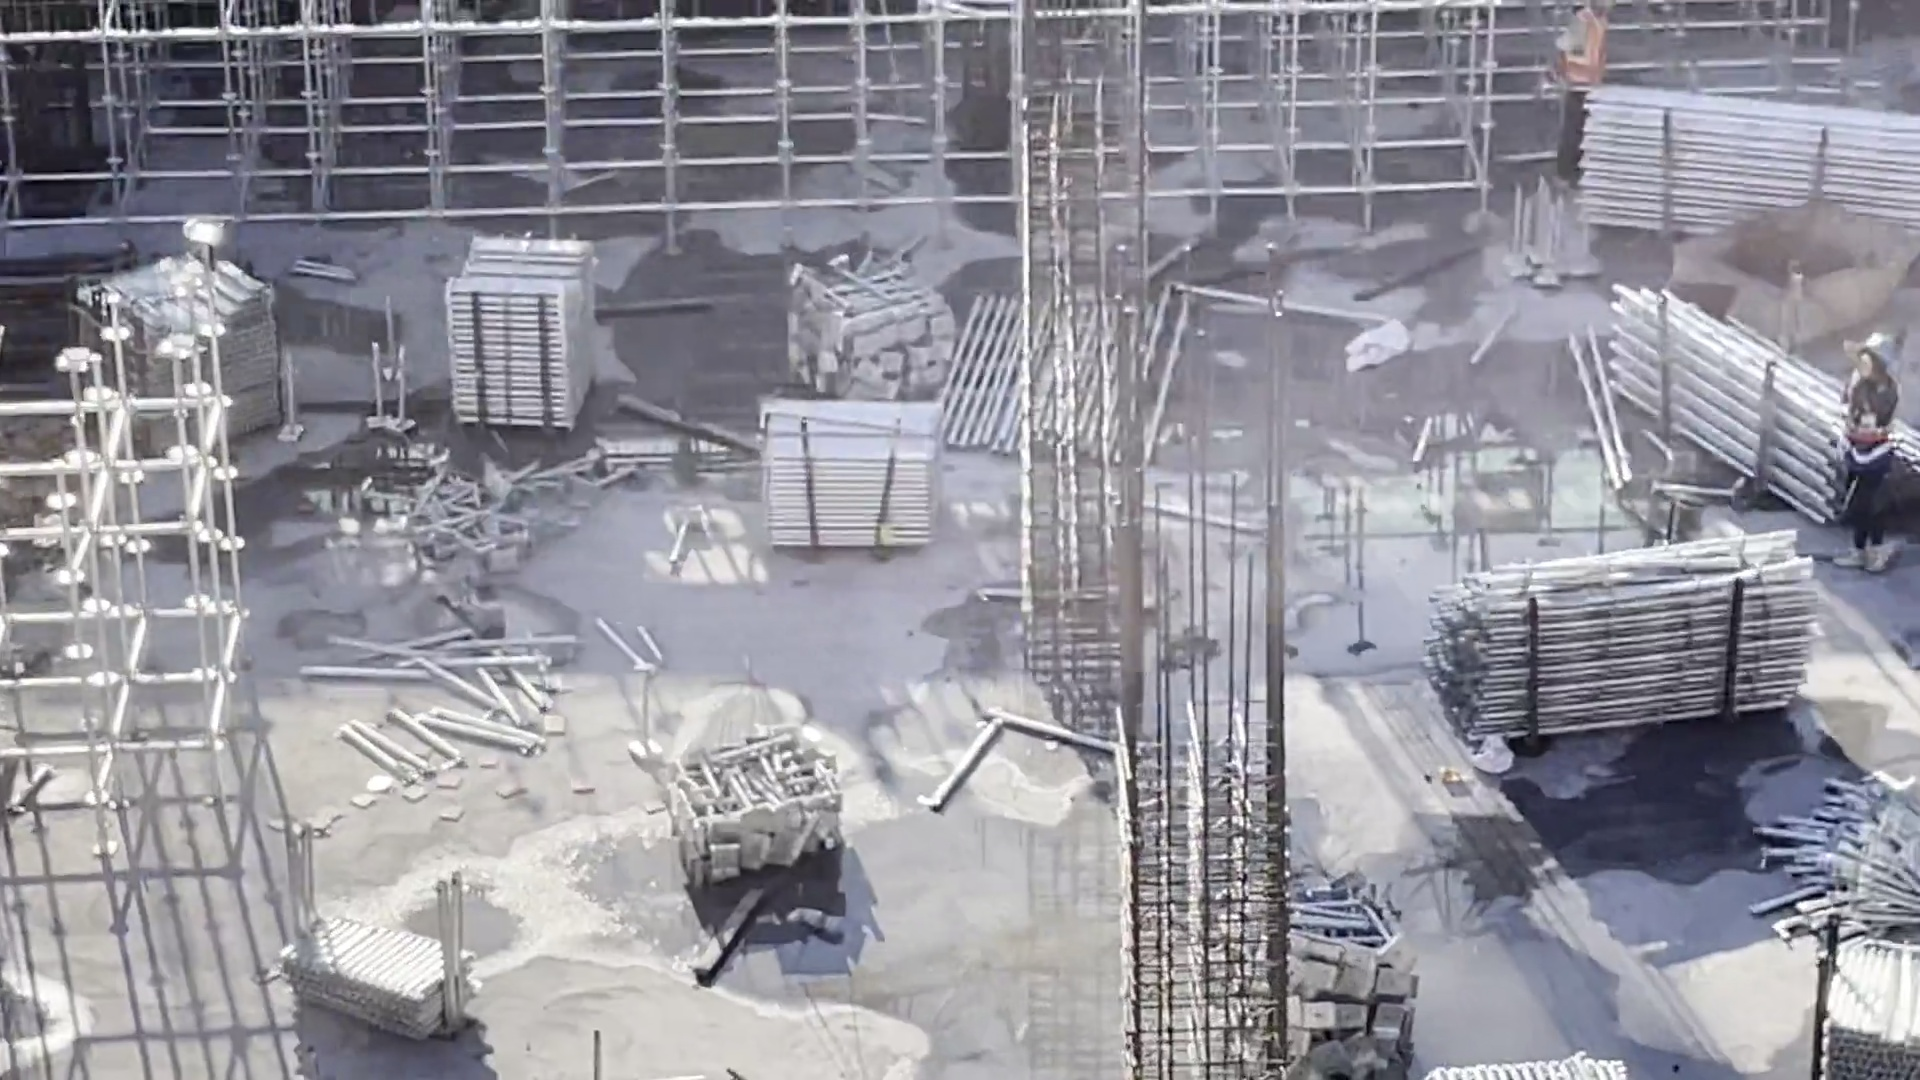helmet: (1854, 322, 1893, 382)
hopper: (1658, 201, 1912, 356)
person: (1836, 315, 1904, 579), (1560, 2, 1615, 189)
scaffold: (1419, 543, 1818, 717), (1602, 274, 1878, 507), (1572, 80, 1920, 255), (1213, 849, 1413, 1051), (447, 226, 625, 436), (82, 252, 273, 437), (781, 245, 973, 407), (648, 723, 848, 874), (750, 400, 934, 560), (277, 905, 496, 1029), (1788, 757, 1920, 908), (1802, 912, 1920, 1052)
vest: (1844, 390, 1888, 486), (1564, 20, 1608, 101)
